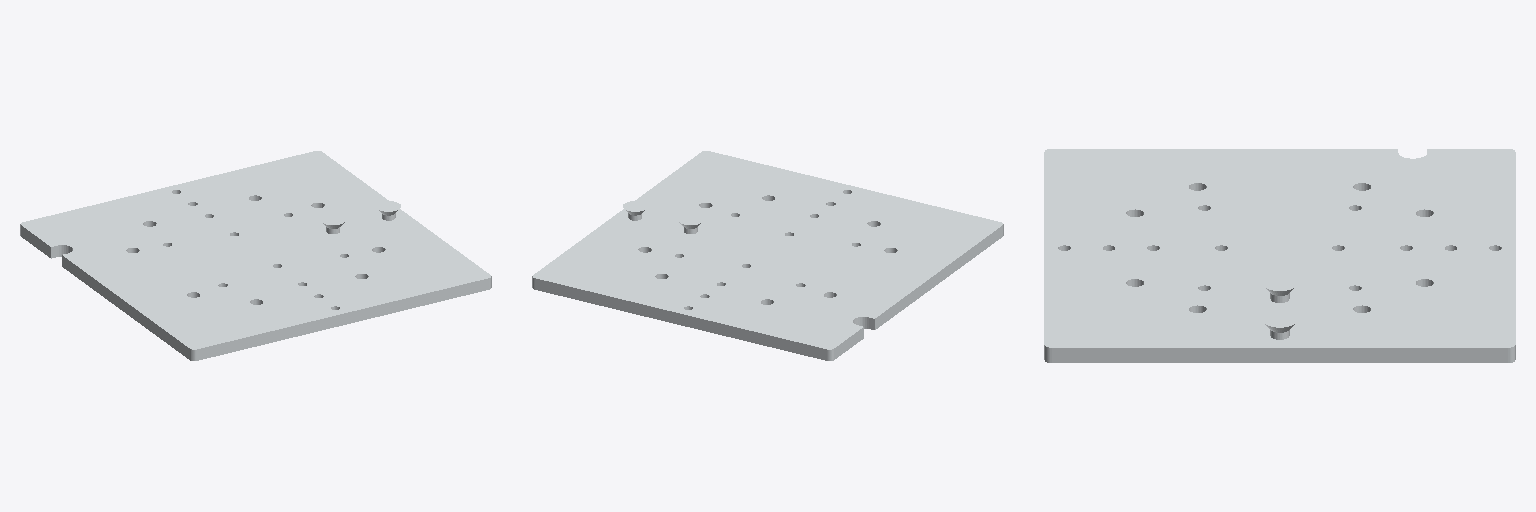
URDF robot description (icim_pallet_empty):
<?xml version="1.0" encoding="utf-8"?>
<!-- This URDF was automatically created by SolidWorks to URDF Exporter! Originally created by [author] ([email redacted]) 
     Commit Version: 1.6.0-1-g15f4949  Build Version: 1.6.7594.29634
     For more information, please see http://wiki.ros.org/sw_urdf_exporter -->
<robot name="icim_pallet_empty">
  <link name="icim_pallet_empty">
    <inertial>
      <origin xyz="0.00053375 0.0030363 0.00012611" rpy="0 0 0" />
      <mass value="0.4241" />
      <inertia ixx="0.009782" ixy="0.0" ixz="0.0" iyy="0.019633" iyz="0.0" izz="0.0098791" />
    </inertial>
    <visual>
      <origin xyz="0 0 0" rpy="0 0 0" />
      <geometry>
        <mesh filename="package://icim_pallet/meshes/icim_pallet_empty.STL" />
      </geometry>
      <material name="">
        <color rgba="0.89804 0.91765 0.92941 1" />
      </material>
    </visual>
    <collision>
      <origin xyz="0 0 0" rpy="0 0 0" />
      <geometry>
        <mesh filename="package://icim_pallet/meshes/icim_pallet_empty.STL" />
      </geometry>
    </collision>
  </link>
</robot>

--- What the picture shows (computed from the rendered views, not written in the file) ---
The picture shows the robot from 3 angles, left to right: view 1: azimuth 30°, elevation 25°; view 2: azimuth 150°, elevation 25°; view 3: azimuth 270°, elevation 25°; orthographic projection.
Robot: icim_pallet_empty — 1 links, 0 joints (none); root link icim_pallet_empty; default pose: all joints at 0.
Links seen in each view (by area): view 1: icim_pallet_empty; view 2: icim_pallet_empty; view 3: icim_pallet_empty.
Boxes of the visible links, x1,y1,x2,y2 form: icim_pallet_empty: [20, 151, 491, 360]; icim_pallet_empty: [532, 151, 1003, 360]; icim_pallet_empty: [1044, 149, 1515, 362].
Bounding box of the posed robot: 0.163 × 0.163 × 0.0119 m (x, y, z).
Meshes: 1 distinct files referenced, 1 mesh visuals loaded (1 binary STL).
